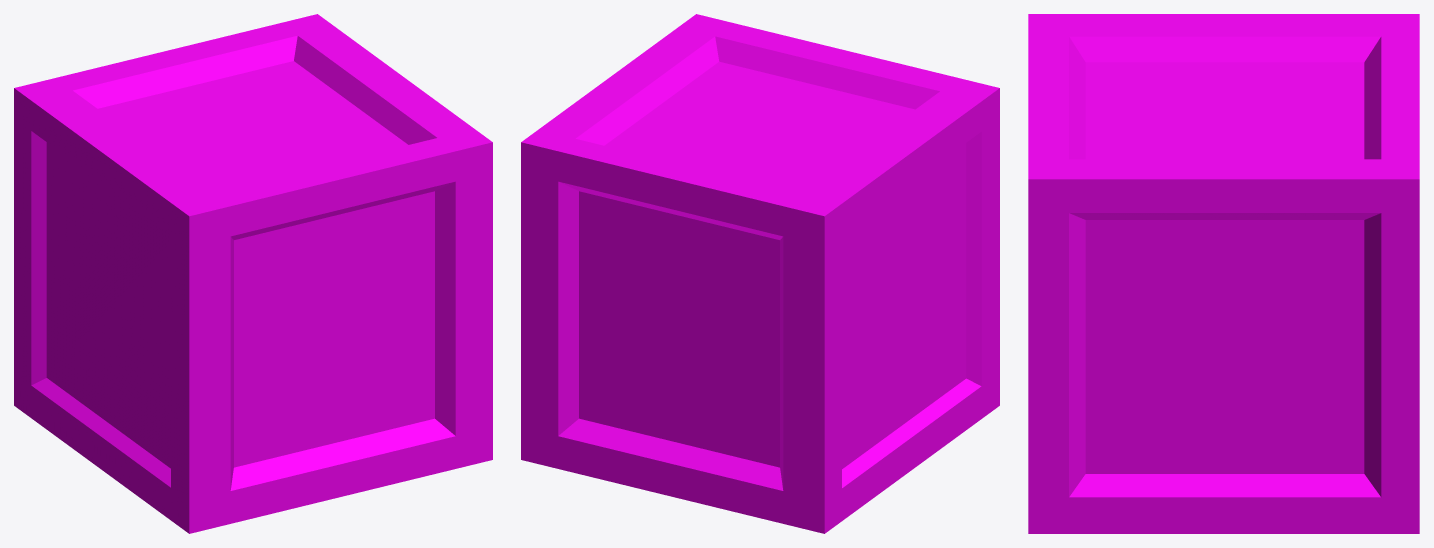
Rendered from Crate.obj.
3 renders of one model, left to right at view 1: azimuth 30°, elevation 25°; view 2: azimuth 150°, elevation 25°; view 3: azimuth 270°, elevation 25°, orthographic. The views are drawn at different scales.
Parts seen in each view (by area): view 1: Crate:pCube2 Crate:polySurface2 Prop_Crate; view 2: Crate:pCube2 Crate:polySurface2 Prop_Crate; view 3: Crate:pCube2 Crate:polySurface2 Prop_Crate.
Boxes of the visible parts, x1,y1,x2,y2 form: Crate:pCube2 Crate:polySurface2 Prop_Crate: (14,14,492,533); Crate:pCube2 Crate:polySurface2 Prop_Crate: (521,14,999,533); Crate:pCube2 Crate:polySurface2 Prop_Crate: (1028,14,1419,533).
Size of the model in its own units: 1 by 1 by 1.
